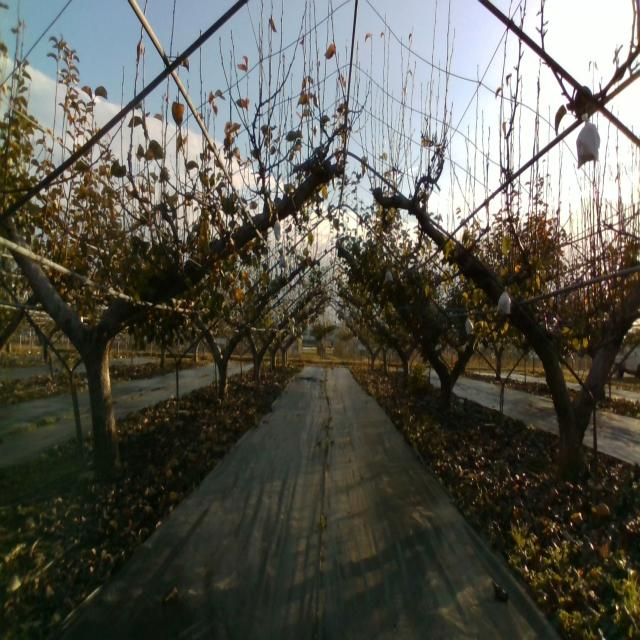pearbags: (576, 113, 601, 170), (496, 286, 512, 315)
